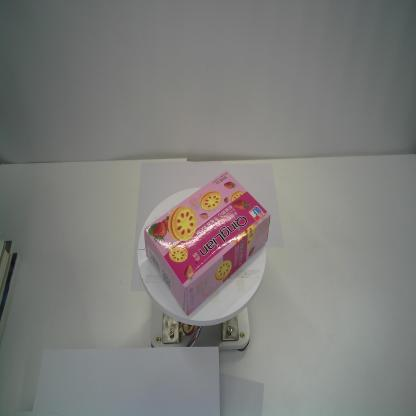Dessert: (142, 167, 271, 316)
